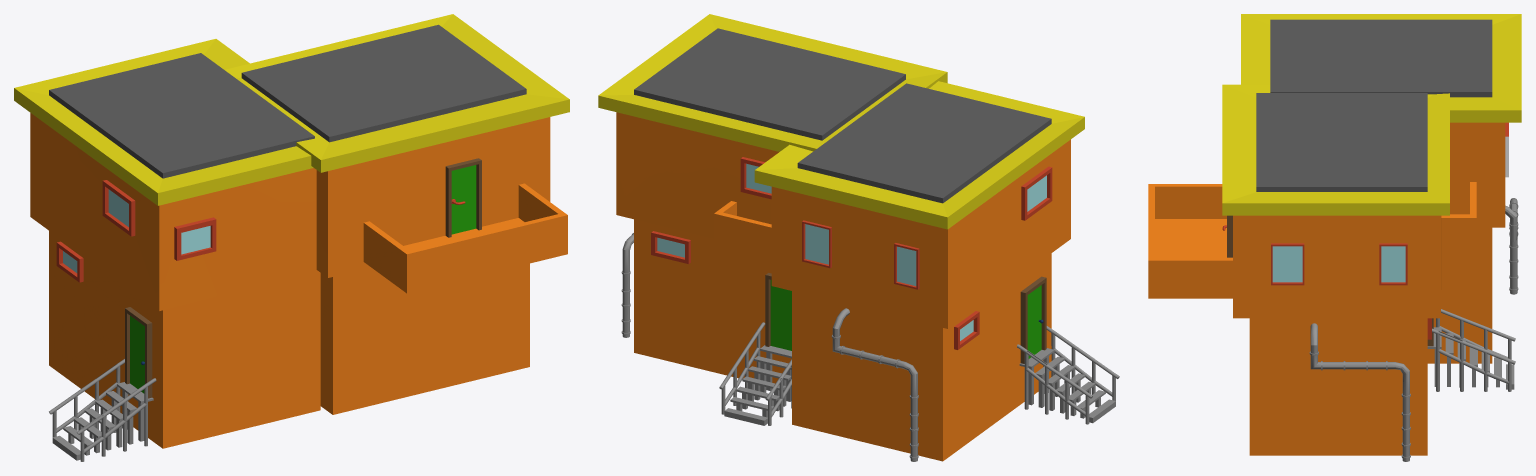
File: Combo favela small 2.fbx
The picture shows the model from 3 angles, left to right: view 1: azimuth 30°, elevation 25°; view 2: azimuth 150°, elevation 25°; view 3: azimuth 270°, elevation 25°; orthographic projection. The views are drawn at different scales.
Parts seen in each view (by area): view 1: Small_Favelahouse.017, Small_Favelahouse.001; view 2: Small_Favelahouse.017, Small_Favelahouse.001; view 3: Small_Favelahouse.001, Small_Favelahouse.017.
Part boxes in pixels (bbox=[...]): Small_Favelahouse.017: bbox=[14, 39, 320, 461]; Small_Favelahouse.001: bbox=[224, 14, 569, 414]; Small_Favelahouse.017: bbox=[714, 81, 1119, 461]; Small_Favelahouse.001: bbox=[598, 14, 947, 425]; Small_Favelahouse.001: bbox=[1148, 84, 1515, 461]; Small_Favelahouse.017: bbox=[1241, 14, 1521, 363].
Bounding box in the file's own units: 1793 × 1035 × 1288.
